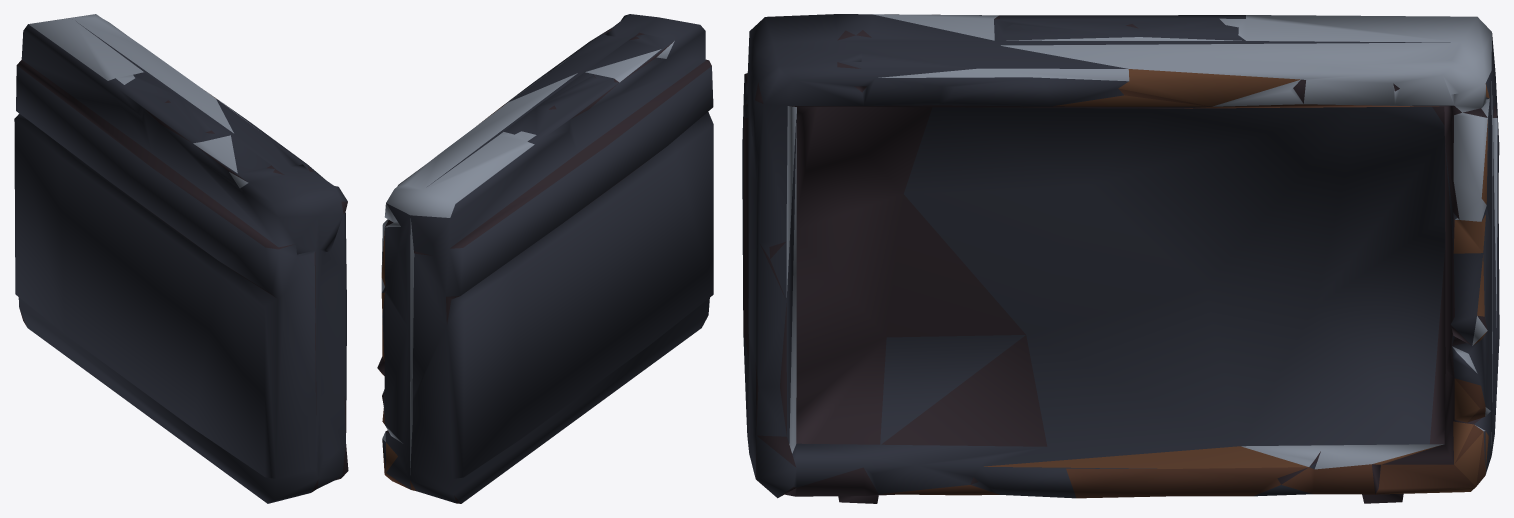
Rendered from SM_tv_flat.fbx.
3 renders of one model, left to right at view 1: azimuth 30°, elevation 25°; view 2: azimuth 150°, elevation 25°; view 3: azimuth 270°, elevation 25°, orthographic. The views are drawn at different scales.
Parts seen in each view (by area): view 1: SM_tv_flat; view 2: SM_tv_flat; view 3: SM_tv_flat.
Part boxes in pixels (x1,y1,x2,y2): SM_tv_flat: [14, 14, 348, 503]; SM_tv_flat: [377, 14, 713, 503]; SM_tv_flat: [742, 14, 1499, 503].
Bounding box in the file's own units: 17.54 × 60 × 88.66.
1 material, 1 textured.
